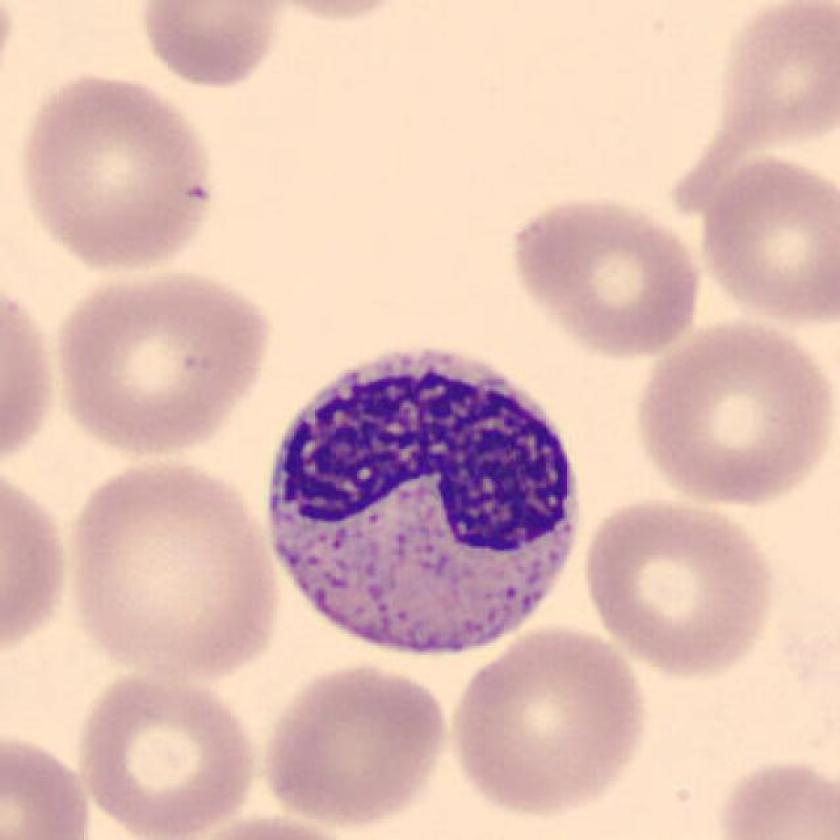neutrophil: (269, 352, 579, 650)
